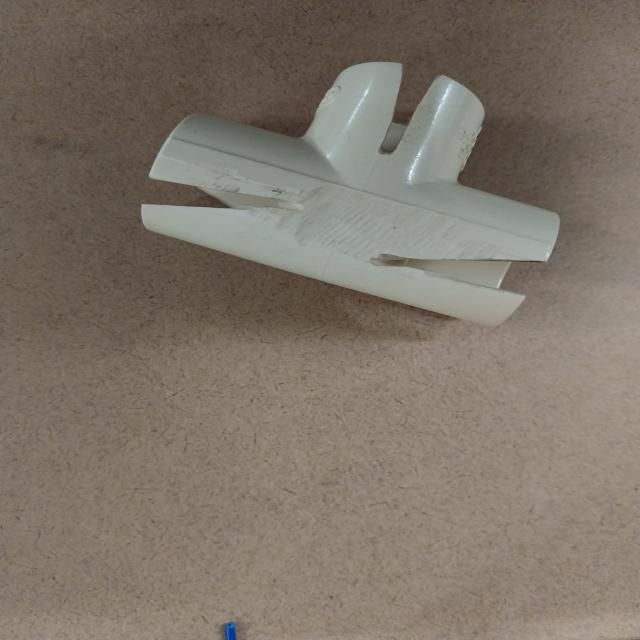Defective: (381, 62, 440, 156), (372, 257, 517, 294), (140, 178, 246, 211), (501, 262, 552, 296)
T Joint: (139, 61, 562, 329)
